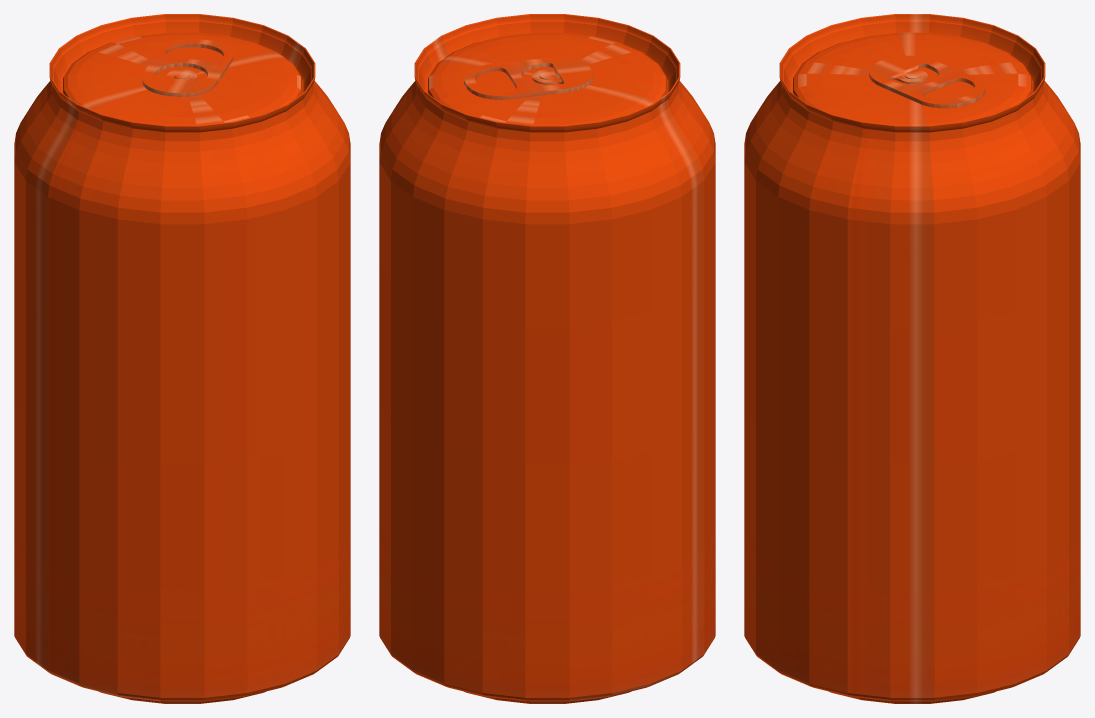
The picture shows the model from 3 angles, left to right: view 1: azimuth 30°, elevation 25°; view 2: azimuth 150°, elevation 25°; view 3: azimuth 270°, elevation 25°; orthographic projection.
Parts seen in each view (by area): view 1: mesh9.003_mesh9-geometry, mesh1.003_mesh1-geometry; view 2: mesh9.003_mesh9-geometry, mesh1.003_mesh1-geometry; view 3: mesh9.003_mesh9-geometry, mesh1.003_mesh1-geometry.
Part boxes in pixels (x1=…): mesh9.003_mesh9-geometry: x1=14, y1=14, x2=350, y2=703; mesh1.003_mesh1-geometry: x1=142, y1=38, x2=233, y2=96; mesh9.003_mesh9-geometry: x1=379, y1=14, x2=715, y2=703; mesh1.003_mesh1-geometry: x1=464, y1=57, x2=592, y2=99; mesh9.003_mesh9-geometry: x1=744, y1=14, x2=1080, y2=703; mesh1.003_mesh1-geometry: x1=869, y1=55, x2=985, y2=108.
Bounding box in the file's own units: 0.4221 × 0.8022 × 0.4222.
